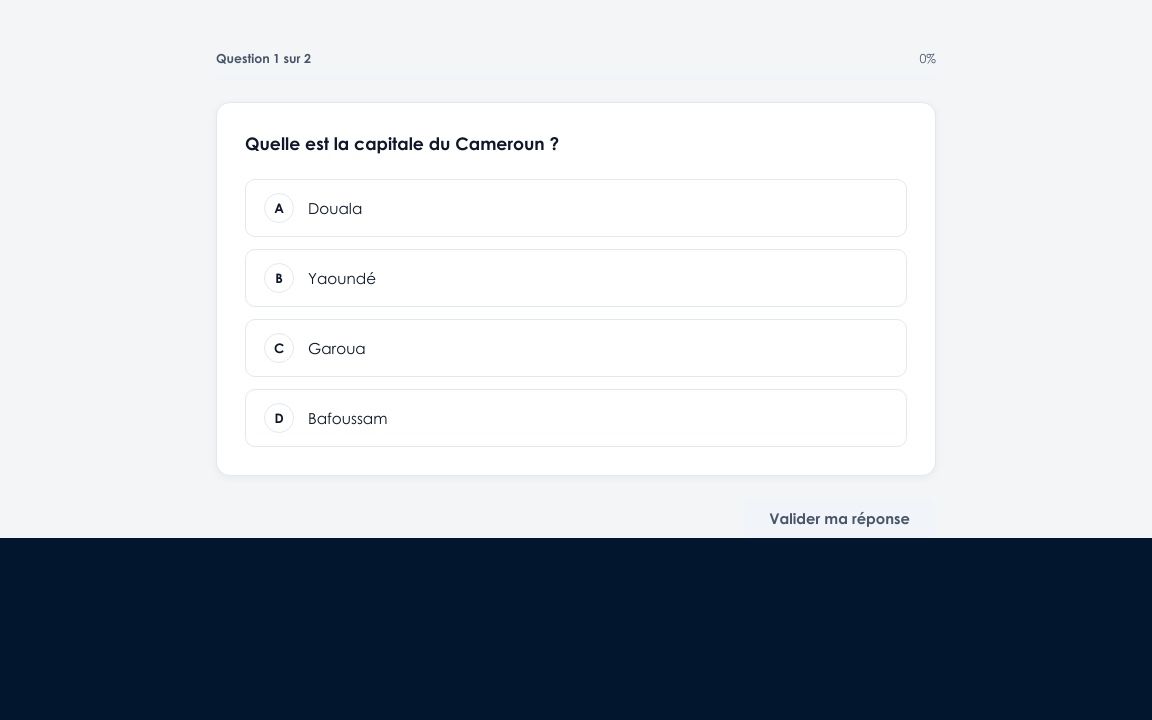
Scenario: QuizPlayer › affiche l'explication apres validation
The width and height of the screenshot is (1152, 720).
Click the text "Yaoundé" at (342, 278), box [308,269,376,287]
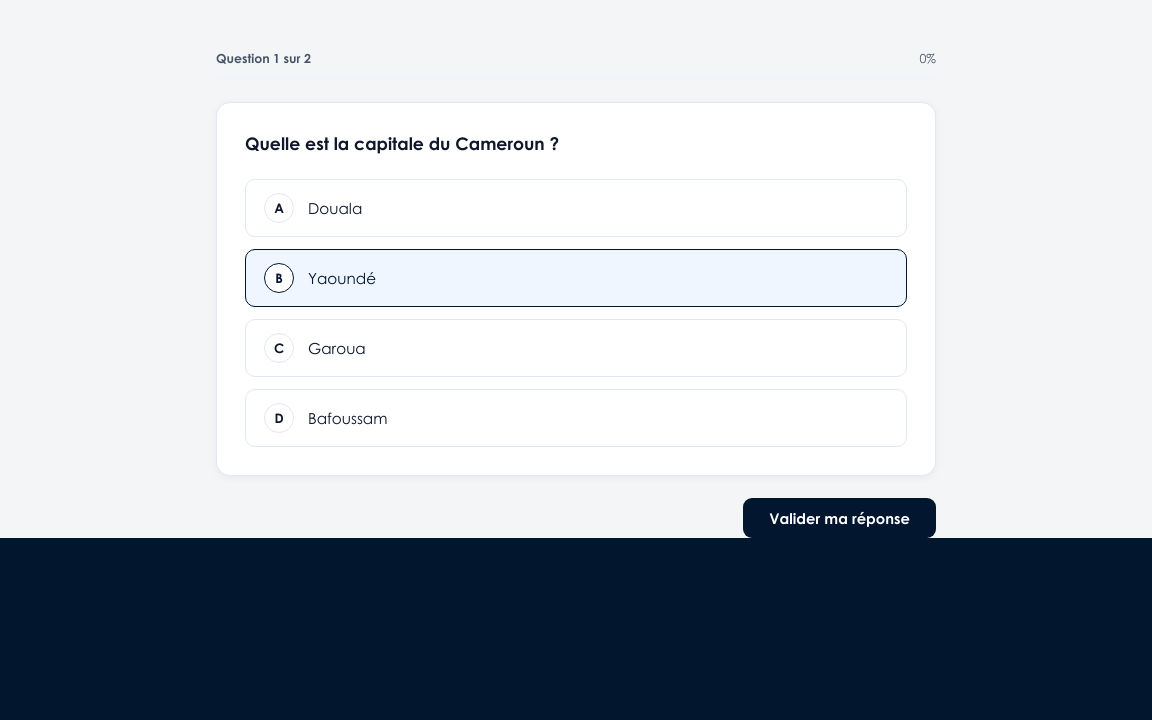
Click the button "Valider ma réponse" at (840, 518), box [743,498,936,538]
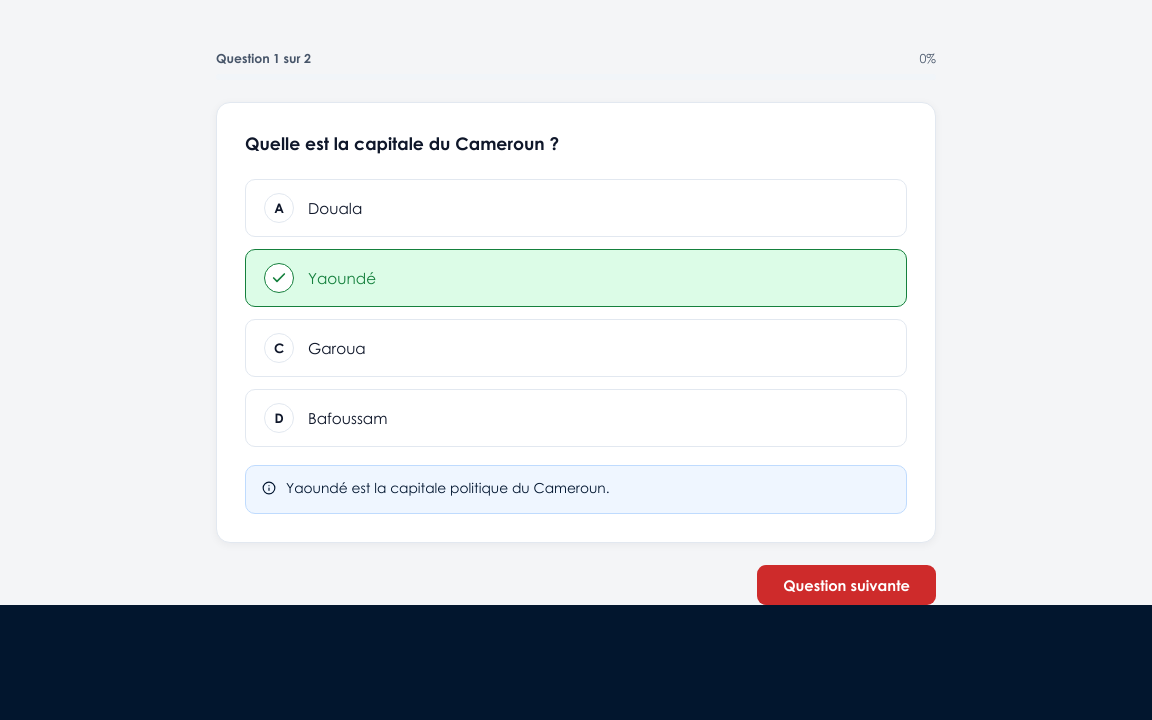
Now the text "Yaoundé est la capitale politique du Cameroun." is shown, box [286,478,610,500]
